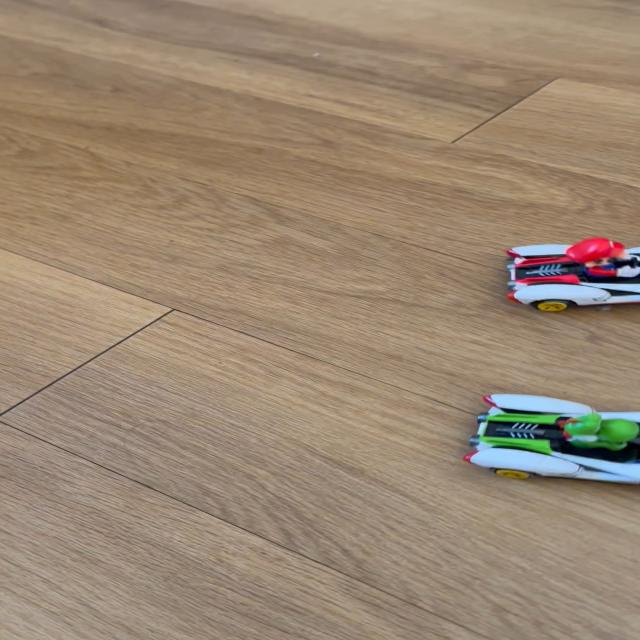mario: (492, 229, 639, 316)
yoshi: (456, 387, 638, 492)
